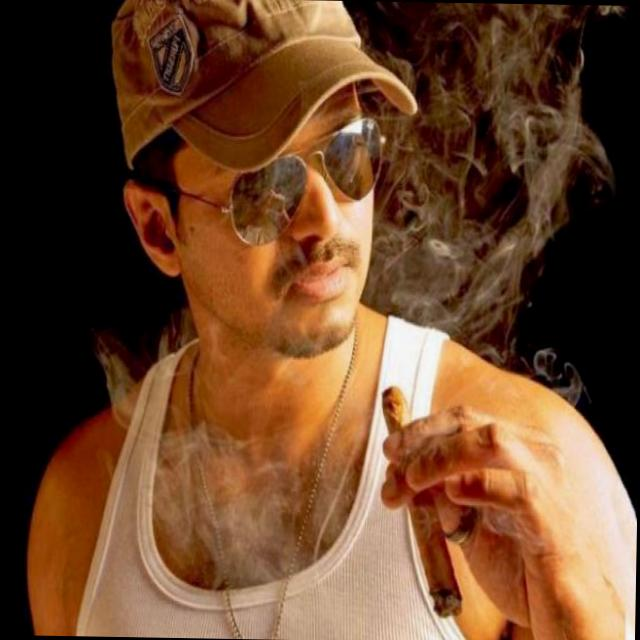smoke: (371, 354, 486, 628)
